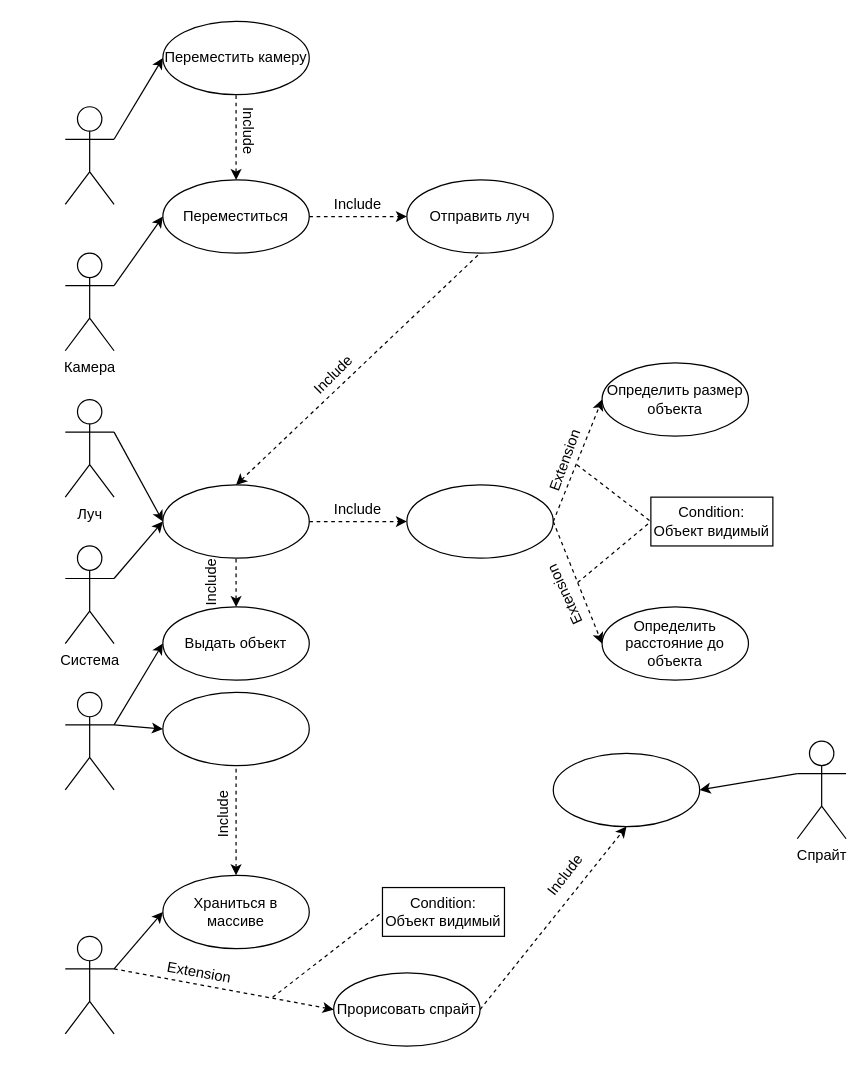
This 867x1081 diagram has some shape labels left out. Each missing label, with the centre of its shape:
"Игрок/Пользователь" belongs at (x=89, y=155).
"Массив" belongs at (x=89, y=740).
"Обработать массив" belongs at (x=235, y=521).
"Объект" belongs at (x=89, y=984).
"Определить видимость объекта" belongs at (x=479, y=521).
"Прорисоваться" belongs at (x=626, y=789).
"Хранить объект" belongs at (x=235, y=728).
